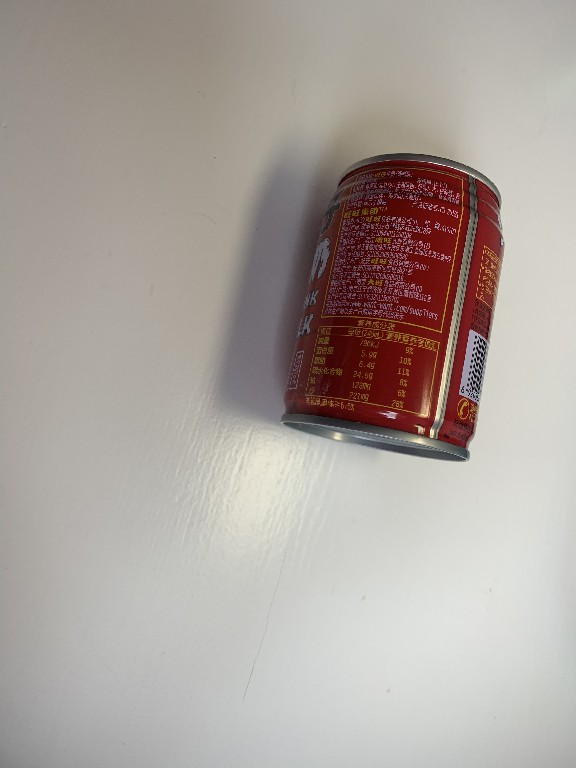can: (277, 151, 507, 466)
